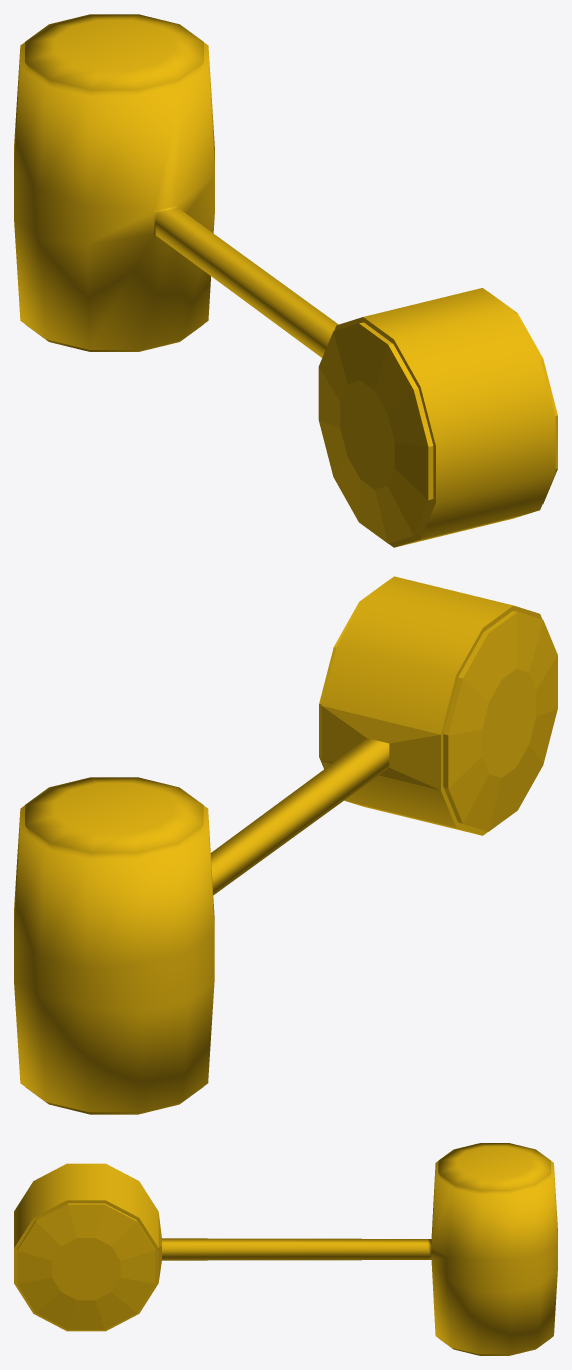
The model's file is Hammer_DEmotivaor.FBX.
3 views of the same model, one above another, from view 1: azimuth 30°, elevation 25°; view 2: azimuth 150°, elevation 25°; view 3: azimuth 270°, elevation 25° (orthographic). The views are drawn at different scales.
Visible parts, largest first — view 1: Cylinder007; view 2: Cylinder007; view 3: Cylinder007.
Part boxes in pixels (bbox=[...]): Cylinder007: bbox=[14, 14, 557, 547]; Cylinder007: bbox=[14, 576, 557, 1114]; Cylinder007: bbox=[14, 1143, 557, 1355].
Size of the model in its own units: 12.24 by 18.52 by 52.65.
